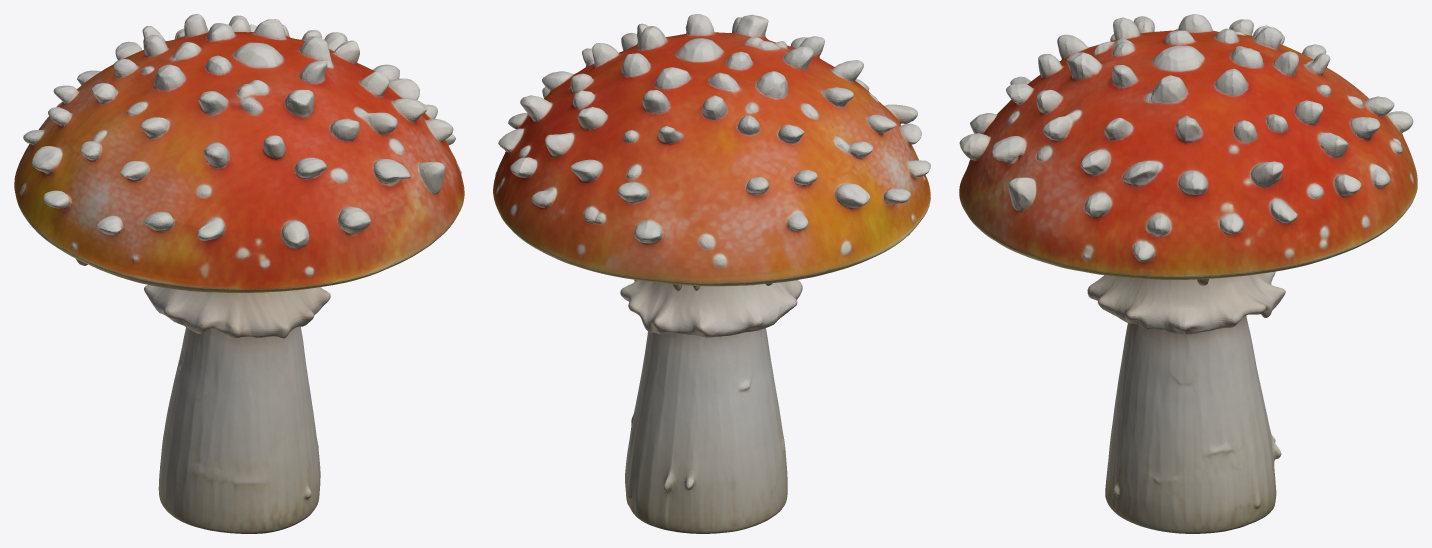
File: scatter_mushrooms.glb
3 views of the same model, side by side, from view 1: azimuth 30°, elevation 25°; view 2: azimuth 150°, elevation 25°; view 3: azimuth 270°, elevation 25° (orthographic).
Visible parts, largest first — view 1: world; view 2: world; view 3: world.
Boxes of the visible parts, x1=… form: world: x1=14, y1=14, x2=464, y2=533; world: x1=493, y1=14, x2=930, y2=533; world: x1=959, y1=14, x2=1417, y2=533.
Size of the model in its own units: 0.8904 by 0.9968 by 0.9017.
